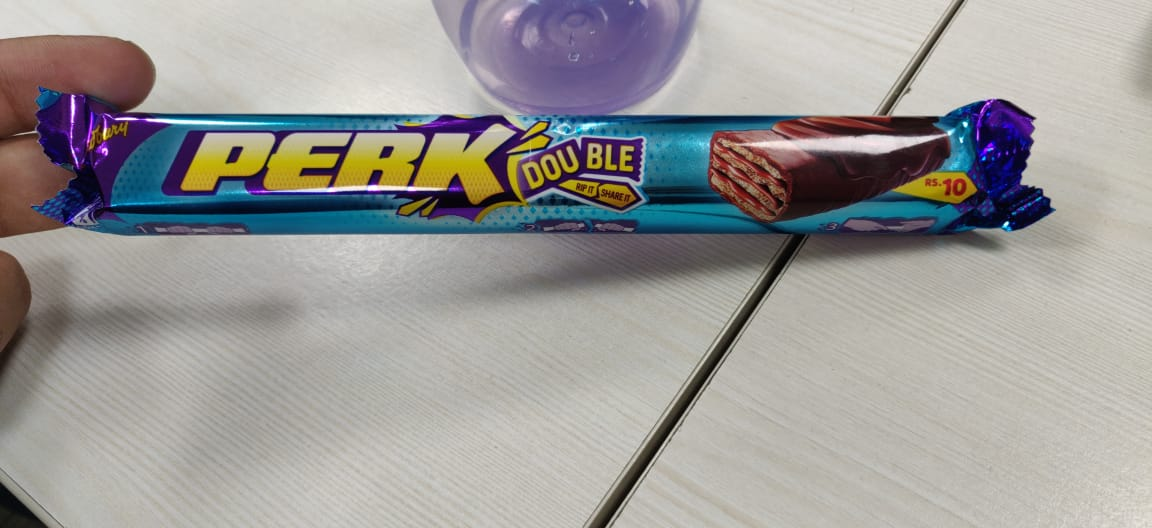perk: (23, 77, 1057, 244)
